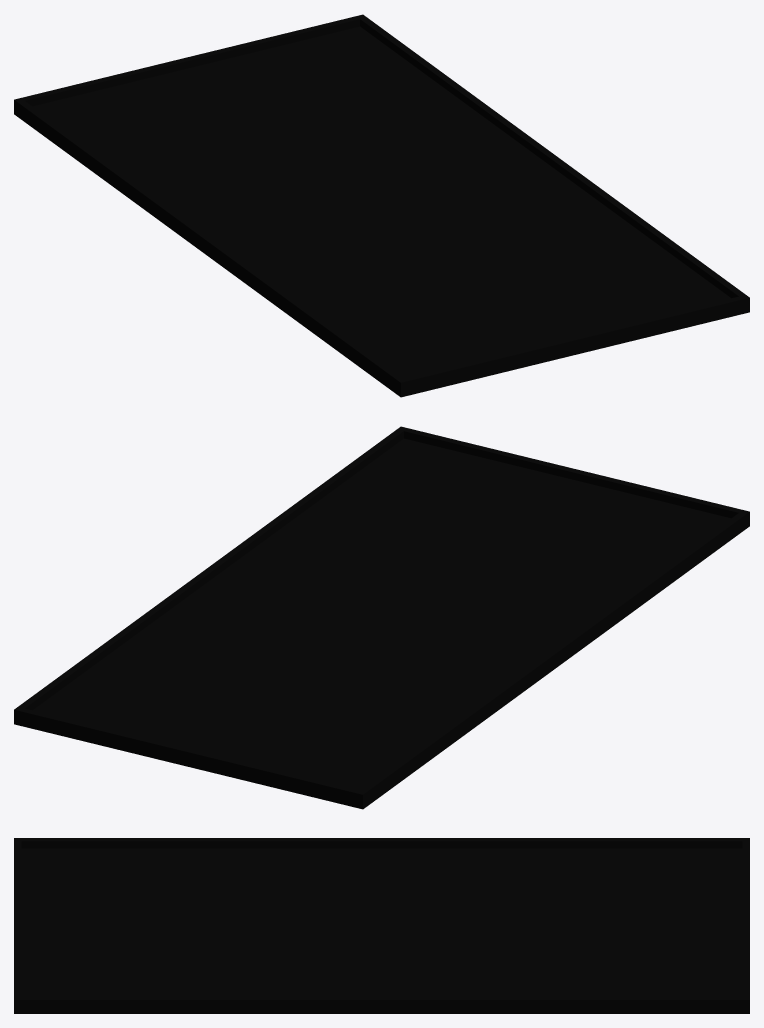
The model's file is flatbed.obj.
3 renders of one model, top to bottom at view 1: azimuth 30°, elevation 25°; view 2: azimuth 150°, elevation 25°; view 3: azimuth 270°, elevation 25°, orthographic. The views are drawn at different scales.
Parts seen in each view (by area): view 1: bottom; view 2: bottom; view 3: bottom.
Boxes of the visible parts, <box> form: bottom: <box>14,14,749,397</box>; bottom: <box>14,426,749,809</box>; bottom: <box>14,838,749,1013</box>.
Bounding box in the file's own units: 3.12 × 0.125 × 6.
